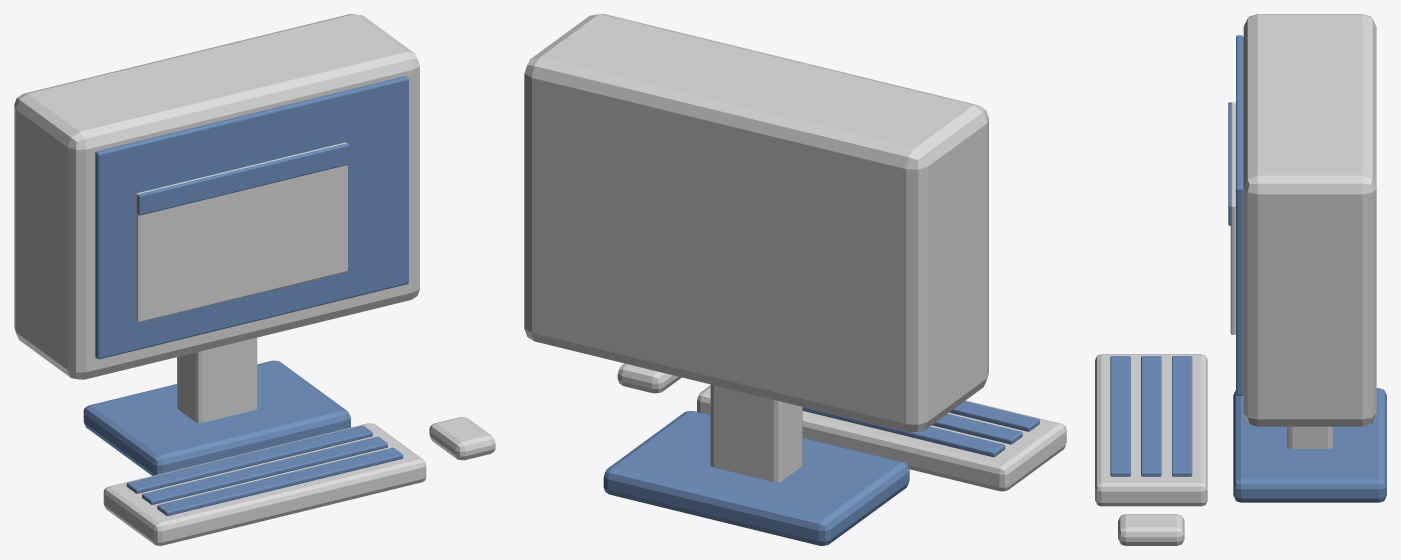
3 views of the same model, side by side, from view 1: azimuth 30°, elevation 25°; view 2: azimuth 150°, elevation 25°; view 3: azimuth 270°, elevation 25° (orthographic). The views are drawn at different scales.
Visible parts, largest first — view 1: monitor, bezel, window, foot, keyboard, neck, title-bar, key-row.2, key-row.0, key-row.1, mouse; view 2: monitor, foot, keyboard, neck, key-row.0, key-row.1, key-row.2, mouse; view 3: monitor, foot, keyboard, bezel, key-row.2, key-row.0, key-row.1, mouse, window, neck, title-bar.
Boxes of the visible parts, bbox=[...] form: monitor: bbox=[14, 14, 419, 379]; bezel: bbox=[95, 76, 408, 359]; window: bbox=[136, 142, 347, 322]; foot: bbox=[83, 360, 350, 475]; keyboard: bbox=[103, 423, 426, 545]; neck: bbox=[177, 337, 257, 422]; title-bar: bbox=[137, 143, 349, 215]; key-row.2: bbox=[157, 447, 403, 515]; key-row.0: bbox=[126, 425, 372, 493]; key-row.1: bbox=[142, 436, 387, 504]; mouse: bbox=[429, 417, 495, 460]; monitor: bbox=[524, 14, 988, 432]; foot: bbox=[603, 411, 909, 545]; keyboard: bbox=[697, 385, 1066, 491]; neck: bbox=[710, 384, 802, 482]; key-row.0: bbox=[802, 407, 1005, 457]; key-row.1: bbox=[932, 413, 1022, 444]; key-row.2: bbox=[949, 401, 1039, 431]; mouse: bbox=[617, 363, 681, 393]; monitor: bbox=[1243, 14, 1376, 426]; foot: bbox=[1233, 388, 1386, 502]; keyboard: bbox=[1095, 354, 1207, 506]; bezel: bbox=[1236, 35, 1243, 395]; key-row.2: bbox=[1110, 356, 1130, 476]; key-row.0: bbox=[1172, 356, 1192, 476]; key-row.1: bbox=[1141, 356, 1161, 476]; mouse: bbox=[1118, 514, 1184, 545]; window: bbox=[1230, 102, 1235, 334]; neck: bbox=[1287, 426, 1332, 448]; title-bar: bbox=[1228, 102, 1231, 225].
Bounding box in the file's own units: 1.65 × 1.56 × 1.14.
